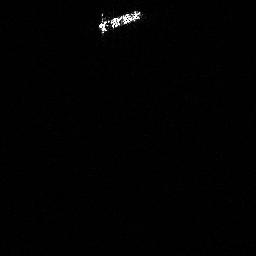ship: (94, 7, 145, 36)
